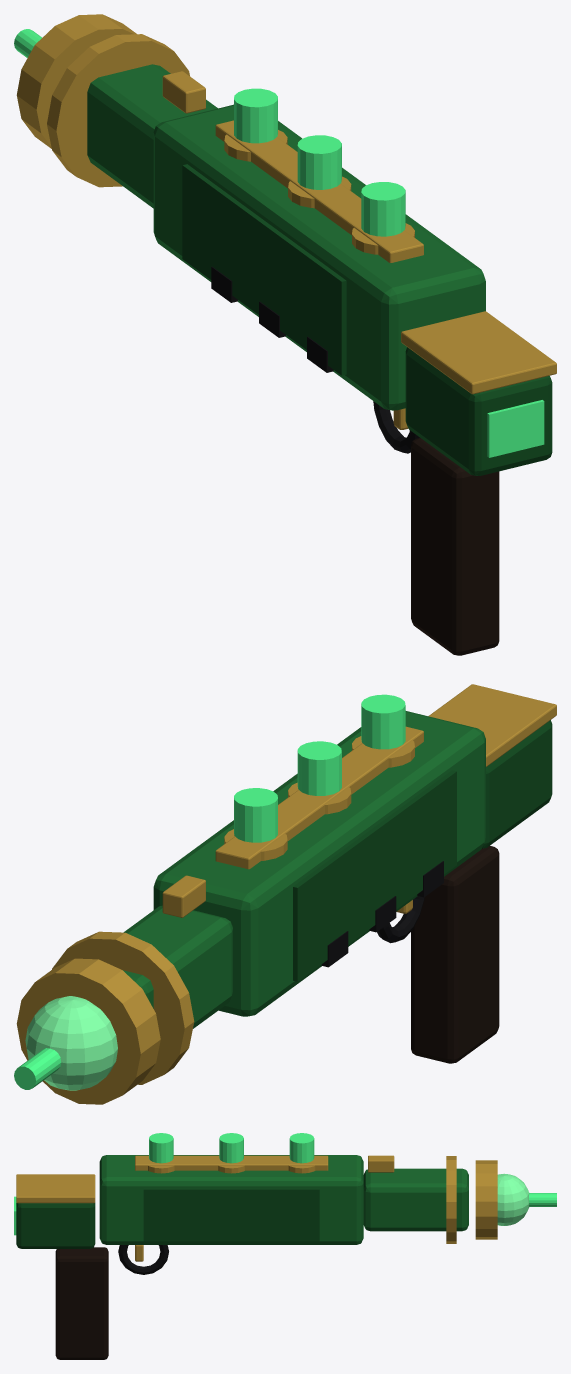
Rendered from raygun.obj.
The picture shows the model from 3 angles, top to bottom: view 1: azimuth 30°, elevation 25°; view 2: azimuth 150°, elevation 25°; view 3: azimuth 270°, elevation 25°; orthographic projection. The views are drawn at different scales.
Parts seen in each view (by area): view 1: raygun; view 2: raygun; view 3: raygun.
Boxes of the visible parts, <box> form: raygun: <box>14,14,556,655</box>; raygun: <box>14,684,556,1104</box>; raygun: <box>14,1133,556,1359</box>.
Bounding box in the file's own units: 0.1 × 0.2725 × 0.6175.
